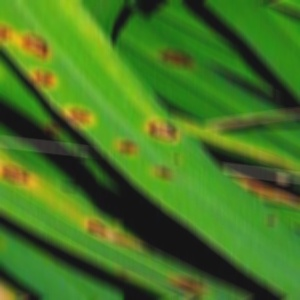Bacterial_Leaf_Blight: (17, 24, 57, 68), (23, 60, 63, 95), (151, 45, 202, 72), (0, 159, 44, 190), (56, 101, 102, 130), (139, 118, 186, 146), (165, 272, 216, 296), (107, 136, 147, 160), (0, 13, 18, 52), (81, 219, 113, 239), (150, 162, 177, 184), (261, 215, 280, 227), (114, 268, 132, 279), (169, 152, 185, 164)
